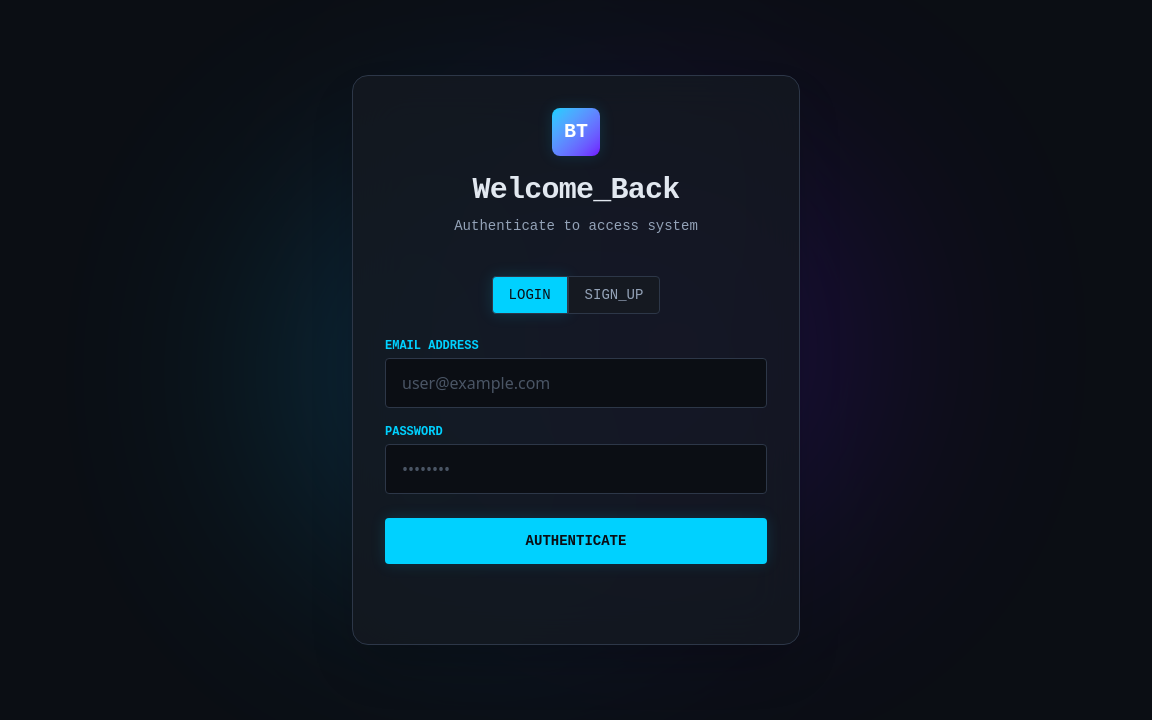
Scenario: Authentication › Login Functionality › should show error for invalid credentials
Type "invalid@email.com" into the field with test id "email-input" at (576, 383), box 385,358 -> 767,408
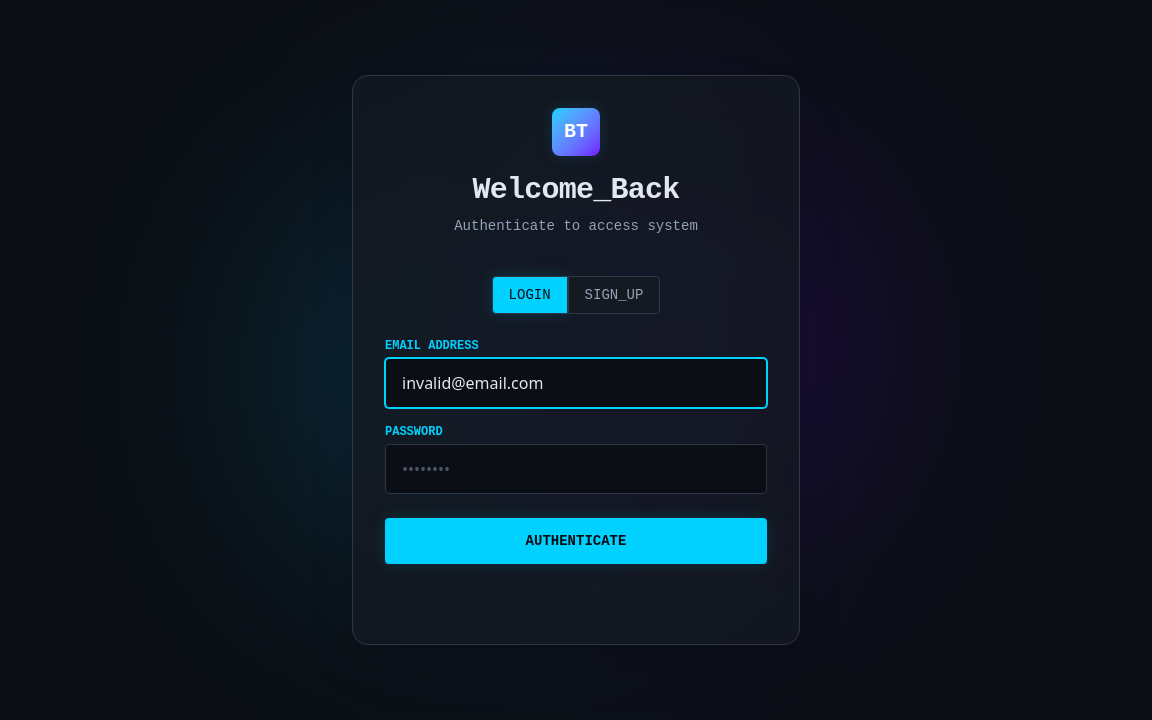
Type "wrongpassword" into the password field with test id "password-input" at (576, 469), box 385,444 -> 767,494
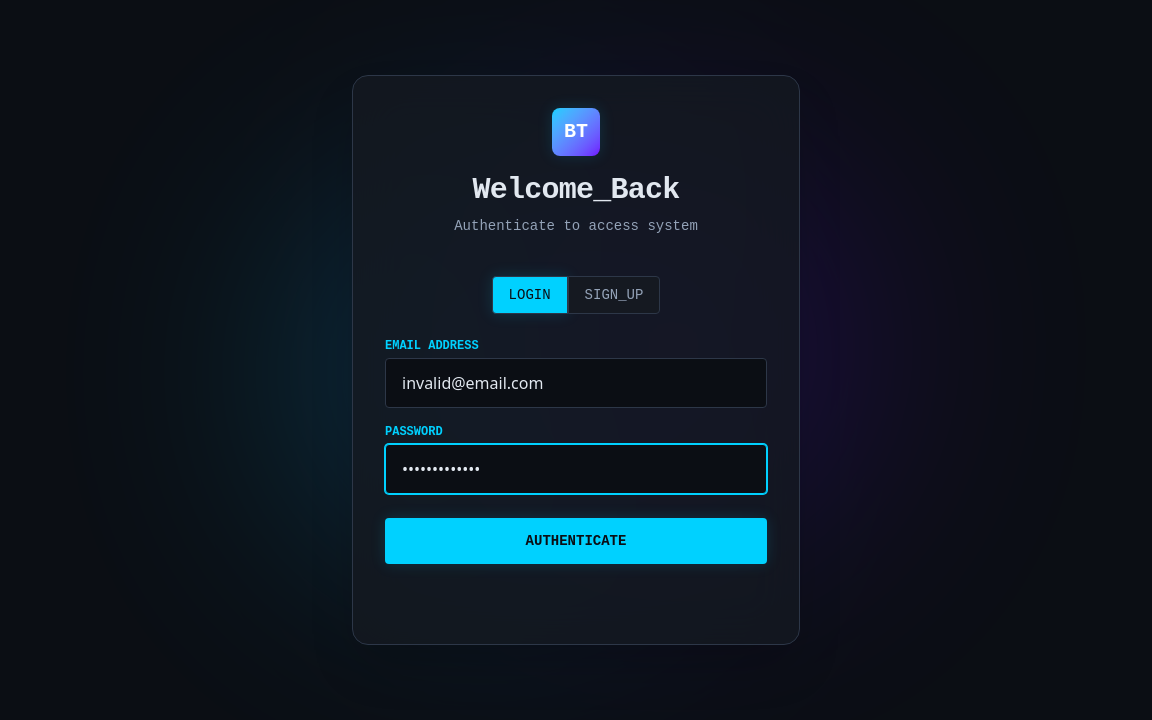
Click the button with test id "login-submit-button" at (576, 541), box 385,518 -> 767,564
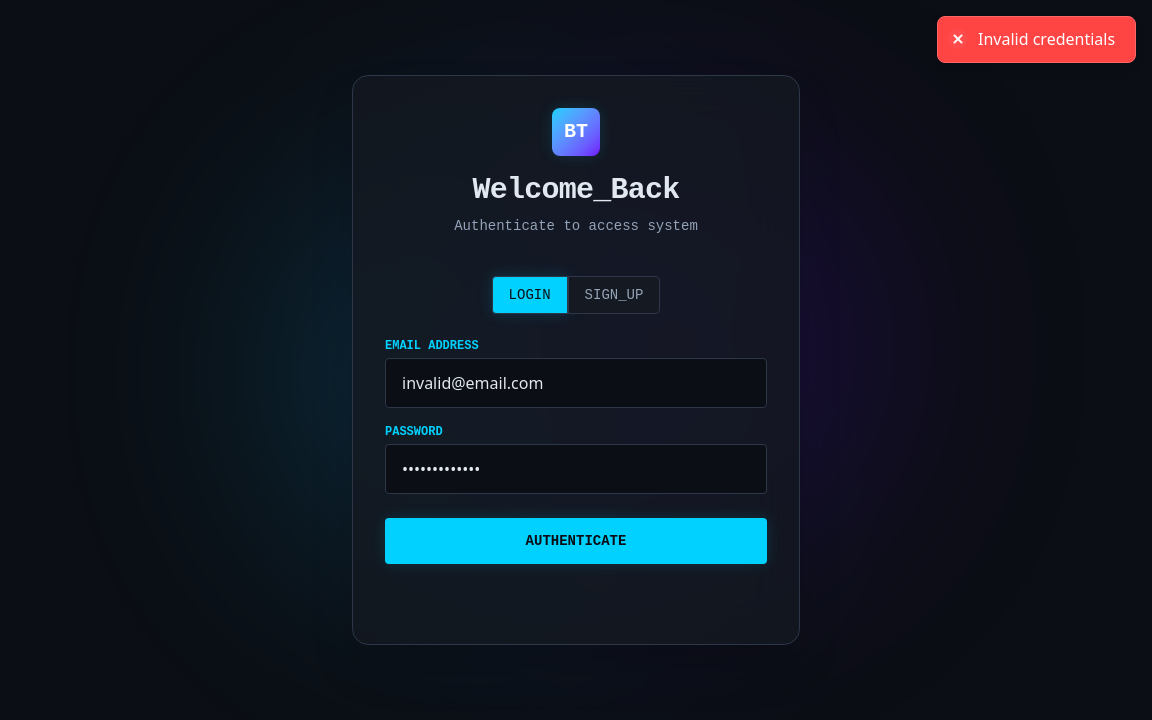
Now the text "Invalid credentials" is shown, box 978,29 -> 1115,50
